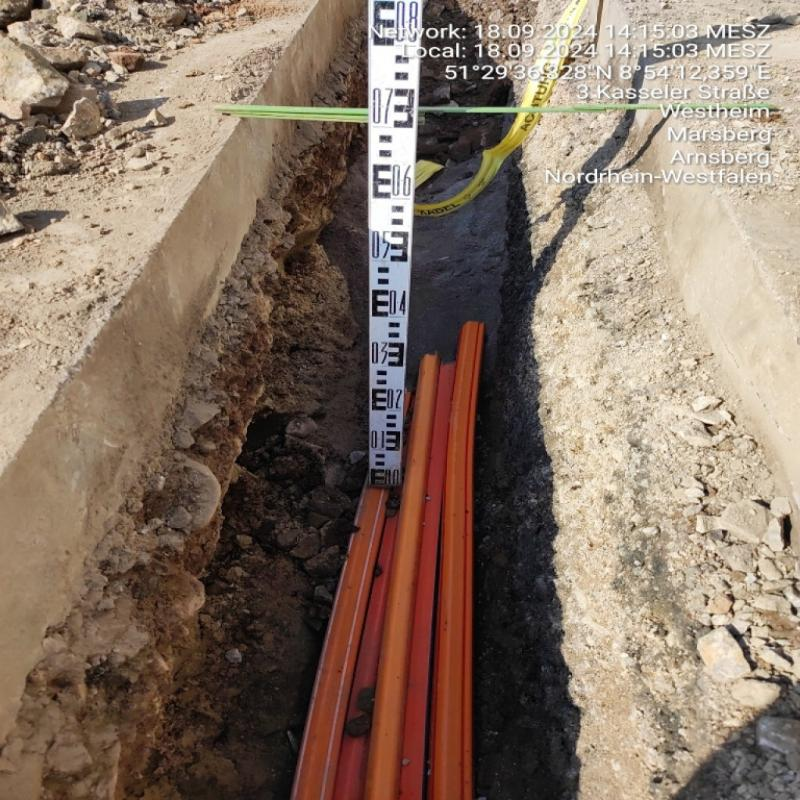Orang-Speednetrohrchen: (299, 326, 482, 800)
